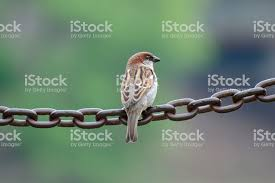hsparrow: (118, 49, 161, 148)
